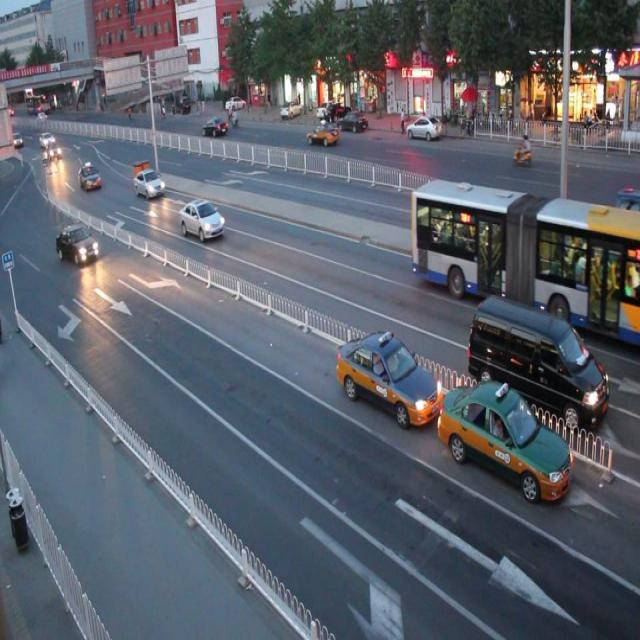car: (437, 378, 572, 500), (336, 330, 441, 427), (178, 198, 224, 241), (56, 225, 99, 266), (134, 167, 166, 200), (306, 124, 340, 147), (202, 115, 228, 137)
truck: (466, 294, 606, 428), (612, 186, 640, 244)
van: (409, 179, 640, 347)
